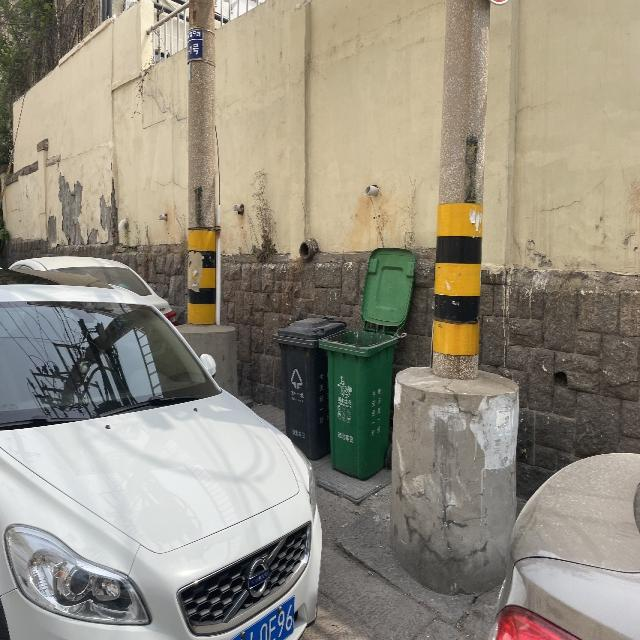garbage_bin: (318, 326, 399, 479), (272, 315, 345, 460)
